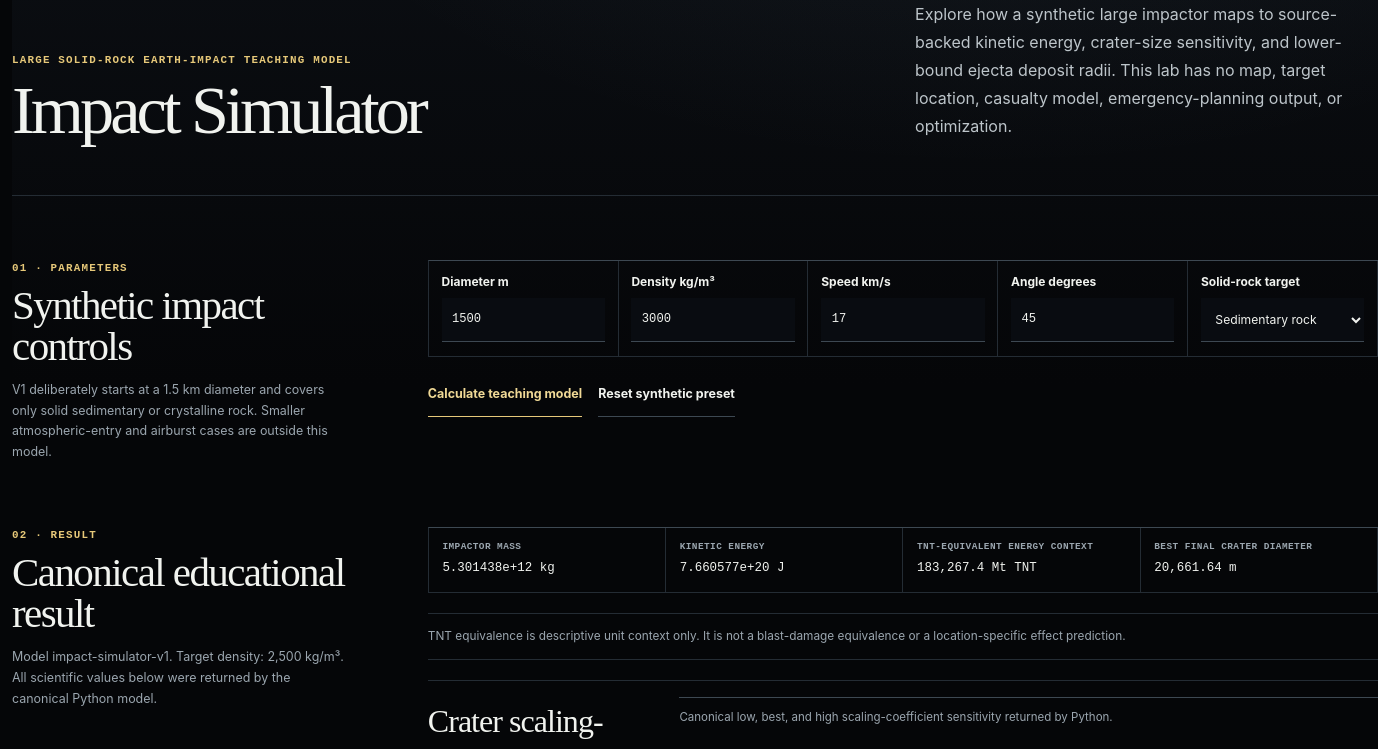
Test case: ImpactSimulatorView › retains the last canonical result after a 422
Replace the text in the number field named "Impactor diameter m" with "2000". click: (523, 320)
box: top-left (442, 298), bottom-right (605, 342)
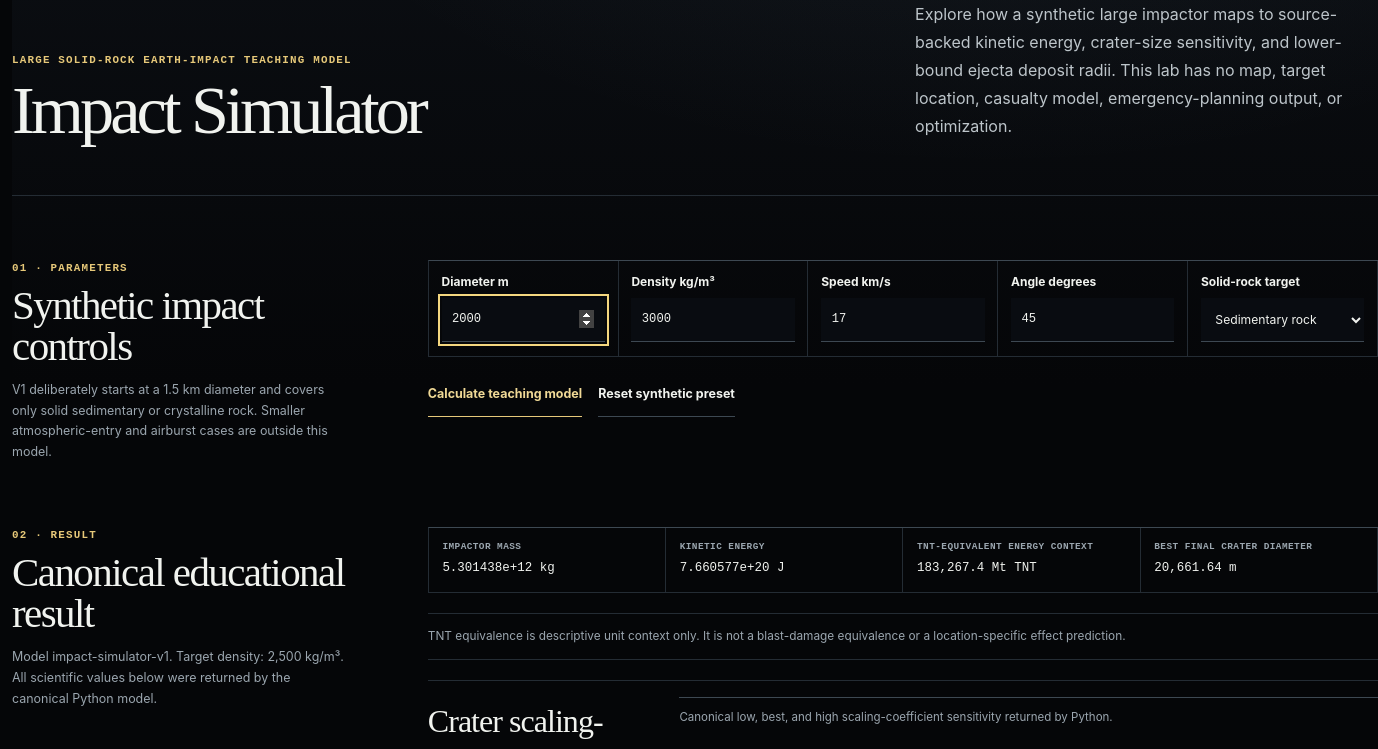
Click the button "Calculate teaching model". click: (505, 395)
box: top-left (428, 373), bottom-right (582, 417)
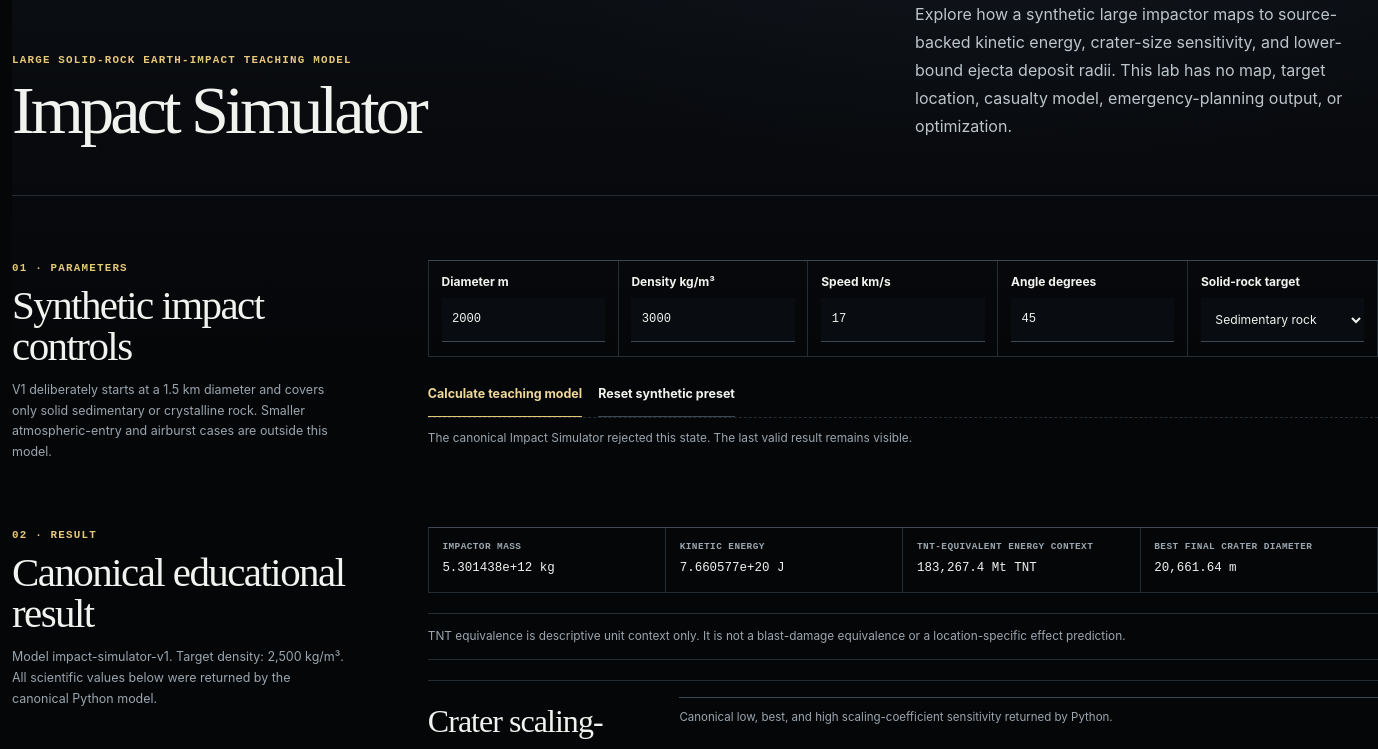
Expected: the text "20,661.64 m" is shown, top-left (1154, 561), bottom-right (1237, 575)
Now the text "canonical Impact Simulator rejected this state" is shown, box top-left (428, 431), bottom-right (912, 445)
